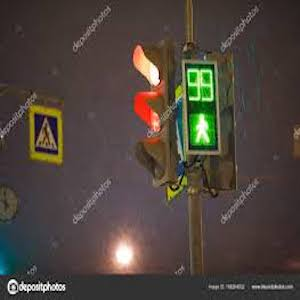green: (186, 112, 216, 149)
